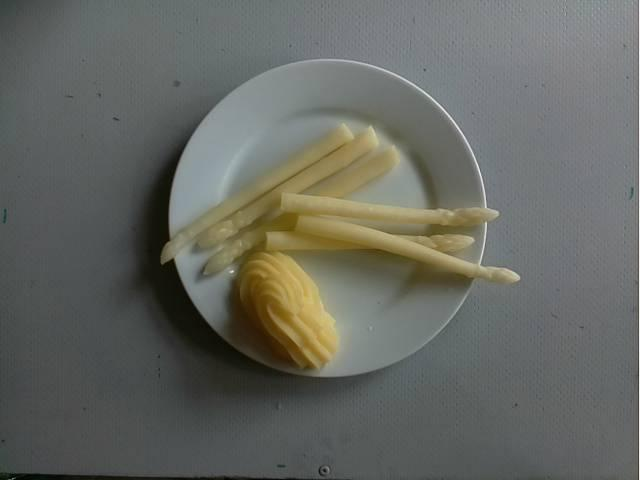Asparagus + mashed potatoes: (163, 116, 522, 366)
